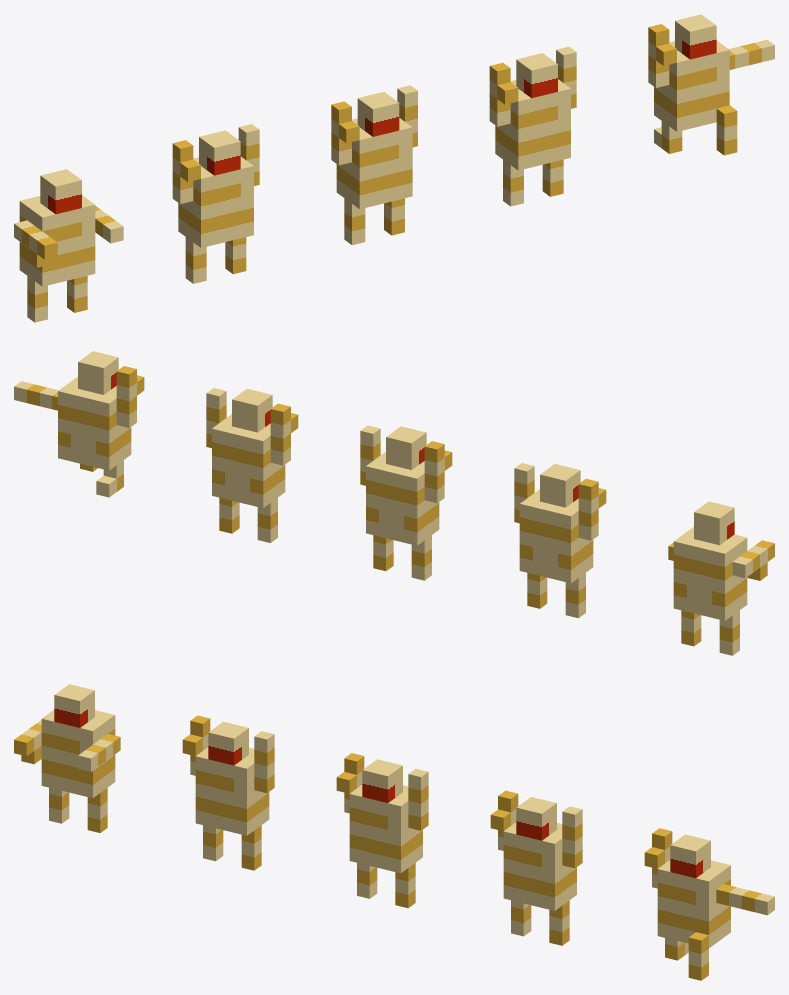
File: champion_mummy.fbx
The picture shows the model from 3 angles, top to bottom: view 1: azimuth 30°, elevation 25°; view 2: azimuth 150°, elevation 25°; view 3: azimuth 330°, elevation 25°; orthographic projection. The views are drawn at different scales.
Visible parts, largest first — view 1: finish, move_0, move_1, move_2, idle_0; view 2: move_0, move_2, move_1, idle_0, finish; view 3: move_0, move_1, move_2, finish, idle_0.
Boxes of the visible parts, x1,y1,x2,y2 form: finish: (648, 14, 774, 155); move_0: (172, 124, 259, 283); move_1: (331, 85, 417, 245); move_2: (489, 46, 576, 206); idle_0: (14, 169, 123, 322); move_0: (514, 463, 606, 618); move_2: (206, 388, 298, 542); move_1: (360, 425, 452, 580); idle_0: (668, 501, 774, 655); finish: (14, 351, 144, 497); move_0: (182, 715, 274, 870); move_1: (336, 753, 428, 908); move_2: (490, 790, 582, 945); finish: (644, 828, 774, 980); idle_0: (14, 684, 120, 832).
Size of the model in its own units: 57 by 10 by 5.
